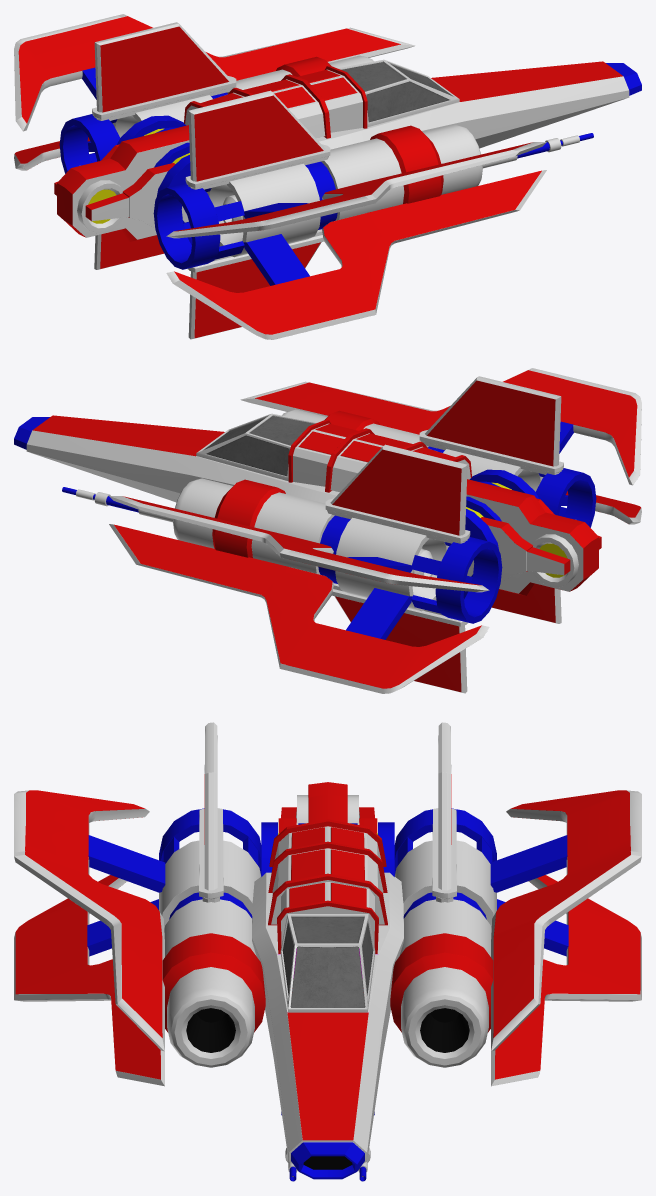
Rendered from SM_Vehicle_AttackGunship.fbx.
The picture shows the model from 3 angles, top to bottom: view 1: azimuth 30°, elevation 25°; view 2: azimuth 150°, elevation 25°; view 3: azimuth 270°, elevation 25°; orthographic projection. The views are drawn at different scales.
Visible parts, largest first — view 1: MeshMainHull, MeshWings, MeshGlass, MeshCanoply; view 2: MeshMainHull, MeshWings, MeshGlass, MeshCanoply; view 3: MeshMainHull, MeshWings, MeshGlass, MeshCanoply.
Boxes of the visible parts, x1,y1,x2,y2 form: MeshMainHull: (54,22,641,339); MeshWings: (14,14,546,339); MeshGlass: (341,62,451,122); MeshCanoply: (337,59,459,127); MeshMainHull: (14,376,601,693); MeshWings: (109,368,641,693); MeshGlass: (204,416,314,476); MeshCanoply: (196,413,318,481); MeshMainHull: (159,722,496,1181); MeshWings: (14,790,641,1086); MeshGlass: (282,917,373,1007); MeshCanoply: (280,914,375,1012).
Size of the model in its own units: 751 by 581 by 288.
3 materials, 2 textured.
